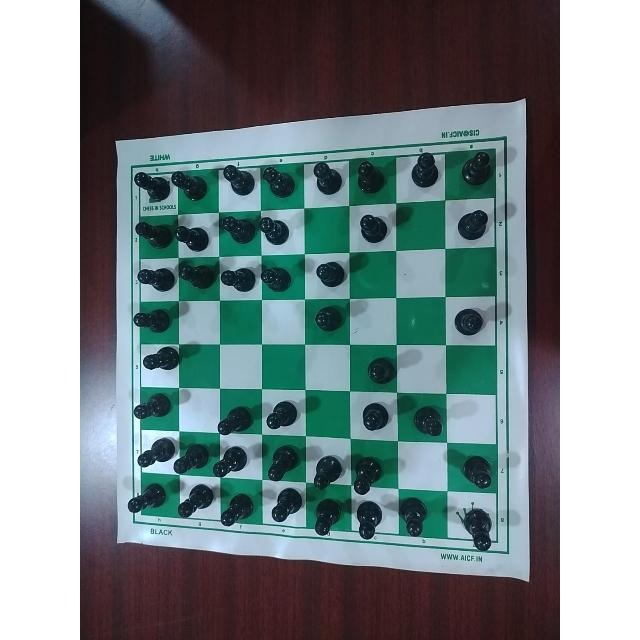black-pawn: (459, 501, 495, 550), (264, 441, 302, 482), (126, 481, 169, 517), (168, 168, 212, 203), (175, 481, 214, 519), (262, 159, 298, 200), (408, 150, 444, 191), (132, 435, 174, 469), (307, 161, 345, 198), (132, 218, 172, 253), (351, 455, 386, 495), (211, 445, 253, 478), (311, 451, 344, 493), (220, 164, 258, 200), (268, 486, 304, 524), (311, 493, 342, 537), (460, 150, 497, 186), (218, 490, 255, 526), (217, 401, 255, 436), (170, 441, 209, 475), (130, 168, 170, 201), (350, 501, 383, 541), (132, 390, 173, 422), (364, 352, 400, 388), (173, 218, 211, 252), (397, 495, 428, 536), (461, 453, 495, 490), (412, 403, 445, 441), (132, 266, 176, 294), (355, 158, 388, 194), (177, 261, 217, 290), (132, 307, 172, 336), (455, 207, 488, 242), (218, 215, 256, 245), (264, 396, 298, 429), (259, 263, 294, 295), (258, 213, 294, 244), (140, 344, 181, 371), (453, 305, 485, 339), (354, 212, 387, 244), (358, 400, 391, 432), (311, 258, 346, 288), (220, 264, 256, 292), (311, 303, 343, 334)
